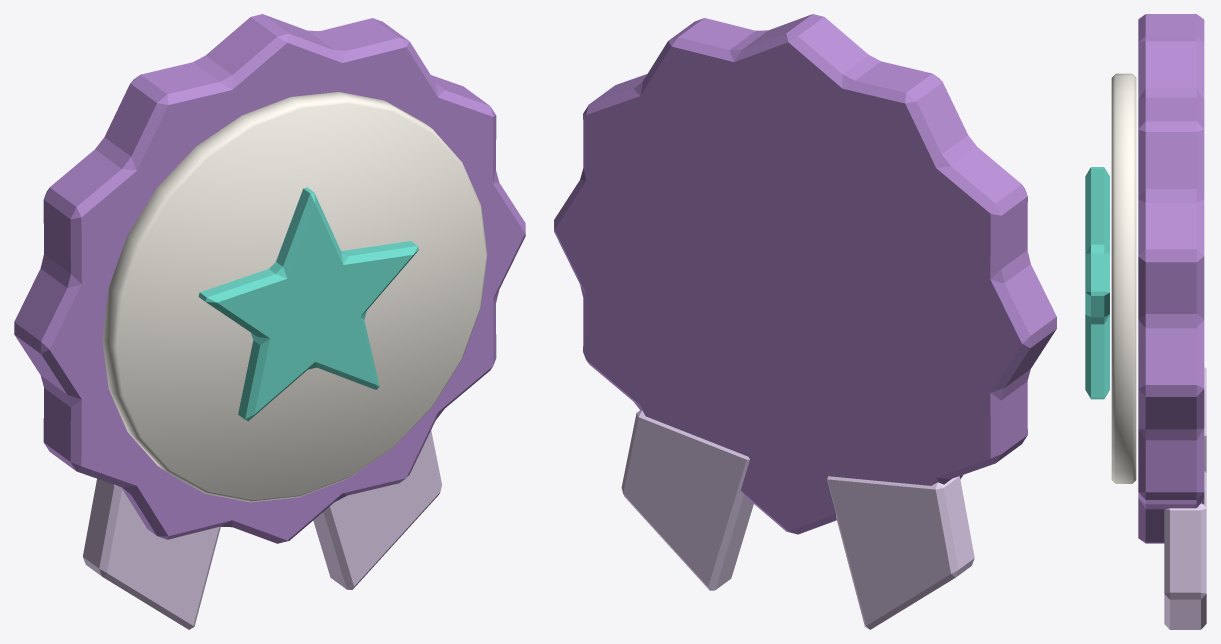
The model's file is route_precision.glb.
3 renders of one model, left to right at view 1: azimuth 30°, elevation 25°; view 2: azimuth 150°, elevation 25°; view 3: azimuth 270°, elevation 25°, orthographic. The views are drawn at different scales.
Parts seen in each view (by area): view 1: Route_Cream, Route_Purple, Route_Mint, Route_PurpleSoft; view 2: Route_Purple, Route_PurpleSoft; view 3: Route_Purple, Route_Cream, Route_Mint, Route_PurpleSoft.
Boxes of the visible parts, <box> form: Route_Cream: <box>102,92,487,502</box>; Route_Purple: <box>14,14,525,543</box>; Route_Mint: <box>198,187,418,421</box>; Route_PurpleSoft: <box>83,430,441,629</box>; Route_Purple: <box>554,14,1056,534</box>; Route_PurpleSoft: <box>621,410,974,629</box>; Route_Purple: <box>1138,14,1204,543</box>; Route_Cream: <box>1111,73,1136,483</box>; Route_Mint: <box>1085,167,1109,399</box>; Route_PurpleSoft: <box>1164,367,1206,629</box>.
Bounding box in the file's own units: 0.5619 × 0.6472 × 0.1285.
